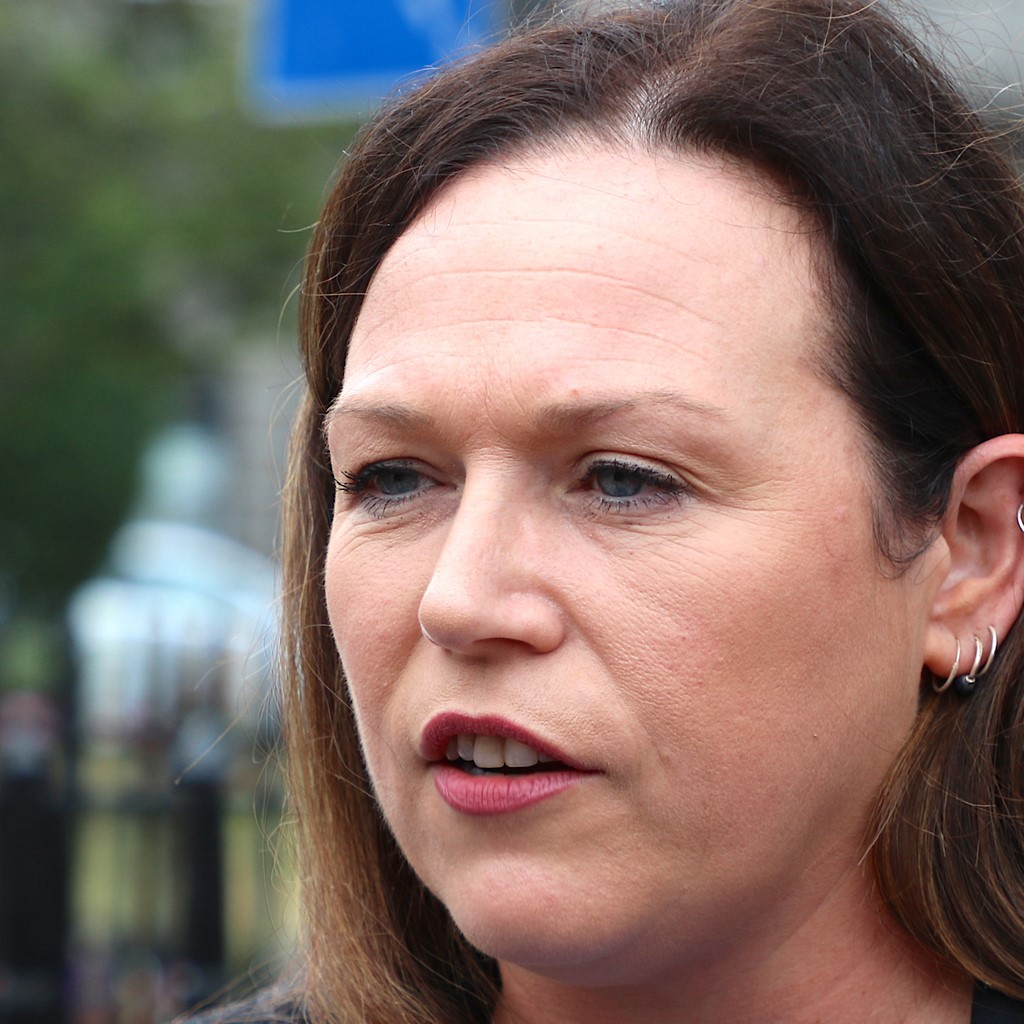sin_mascara: (299, 108, 899, 975)
